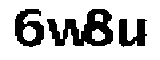6: (7, 5, 45, 49)
8: (90, 8, 116, 49)
u: (118, 13, 151, 51)
w: (46, 17, 89, 52)
